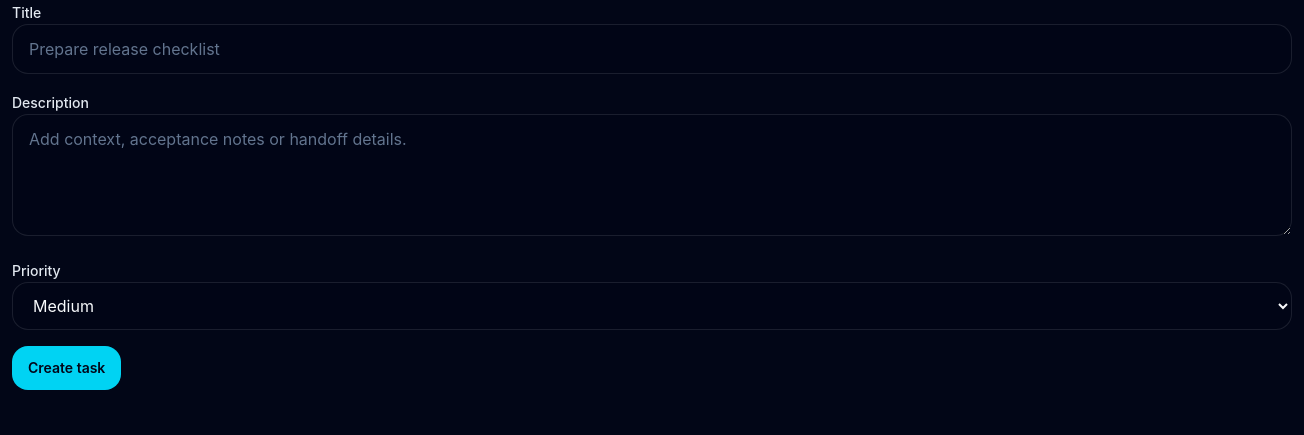
TaskForm › shows validation errors when required fields are missing
Click the button "Create task": (67, 368) [12, 346, 121, 390]
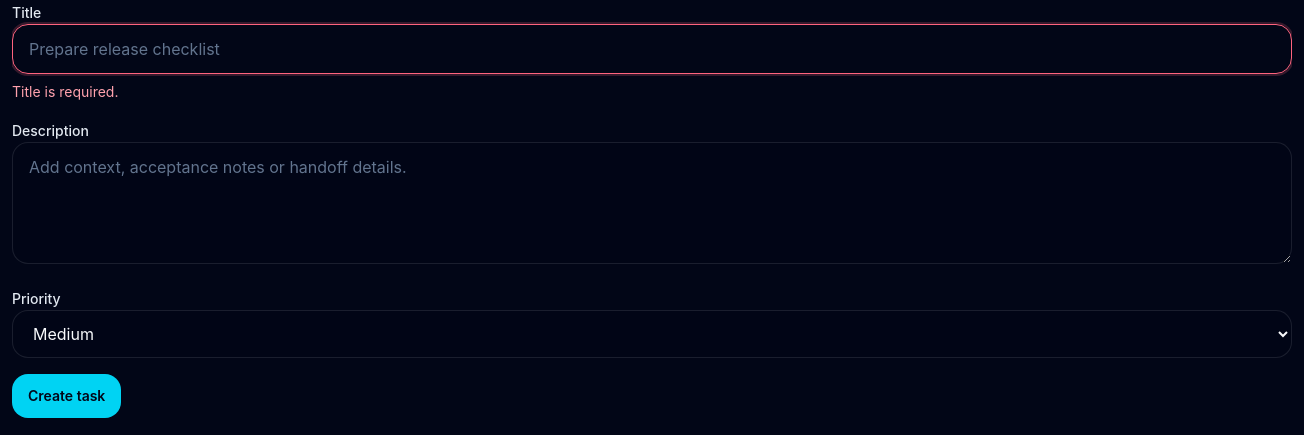
Now the text "Title is required." is shown, box [12, 83, 118, 100]
